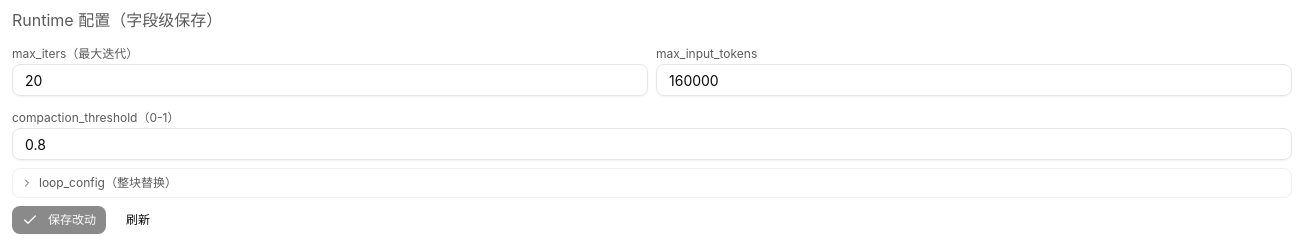
Test: B5 WorkerRuntimeConfigPanel（#1231 消费） › ⑥ PUT 409 → 「配置被锁定」提示
expect the text "Runtime 配置（字段级保存）" is shown: met, box [12,8,222,32]
Replace the text in the number field showing "20" with "25" at (330, 80), box [12,64,648,96]
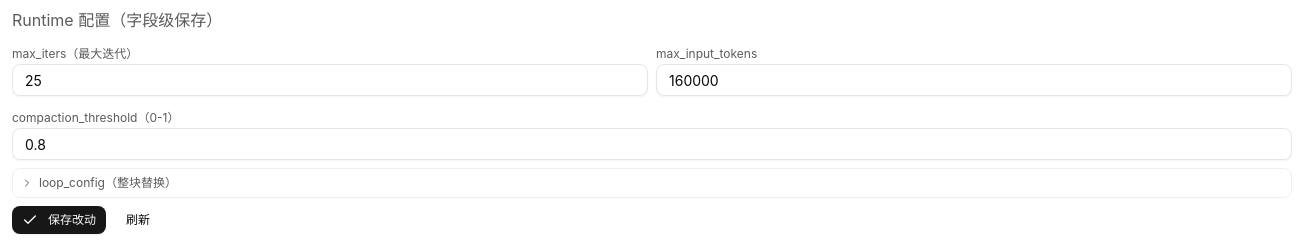
Click the button "保存改动" at (59, 220), box [12,206,106,234]
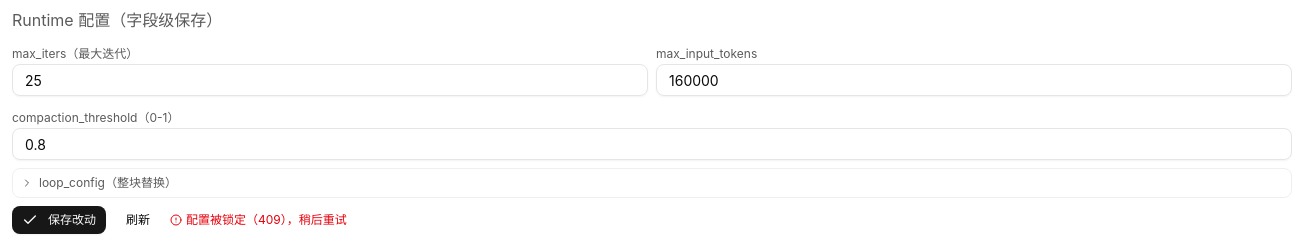
expect the text "配置被锁定（409），稍后重试" is shown: met, box [170,212,347,228]
